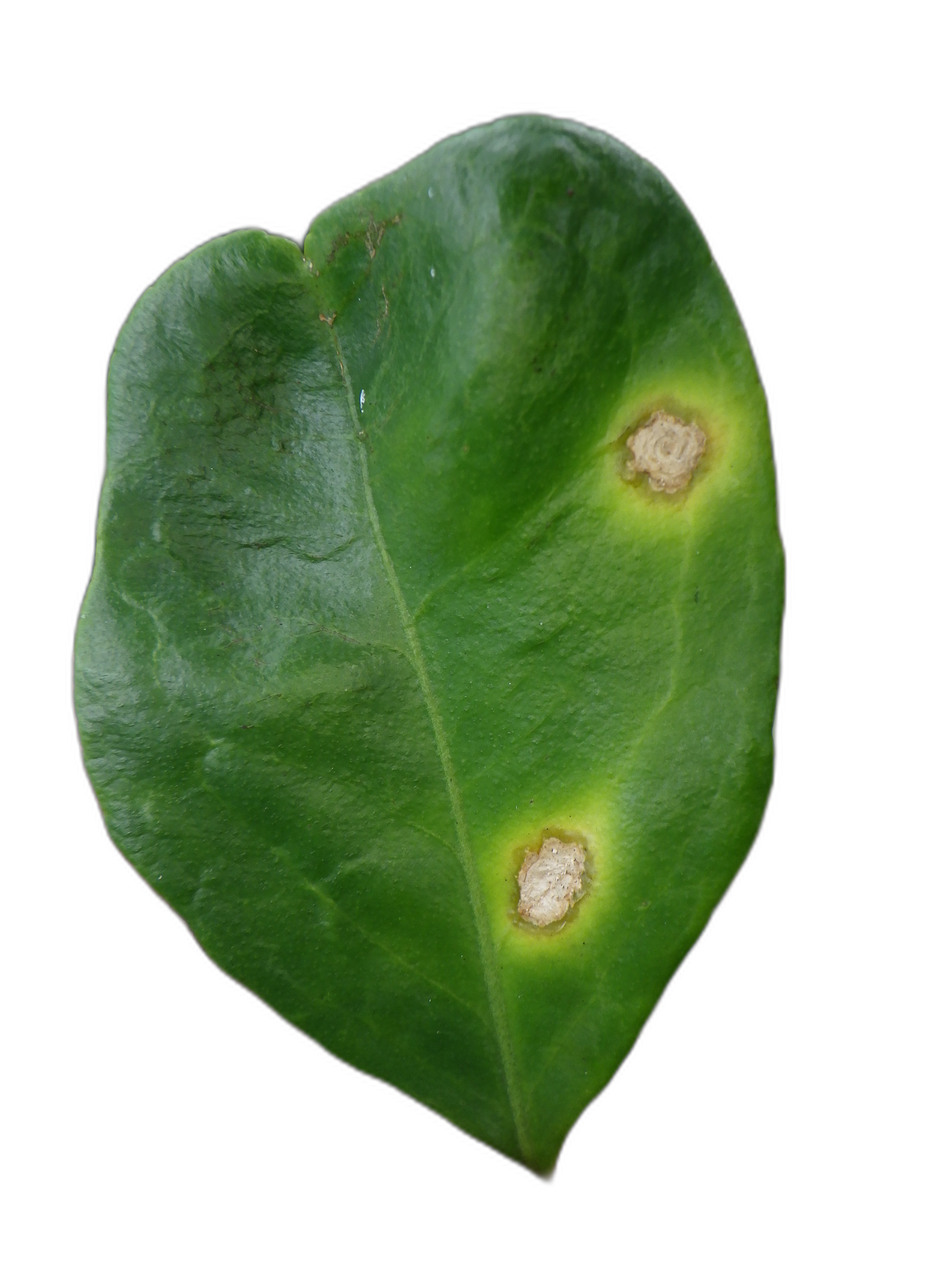Canker: (625, 410, 706, 494), (518, 830, 587, 927)
